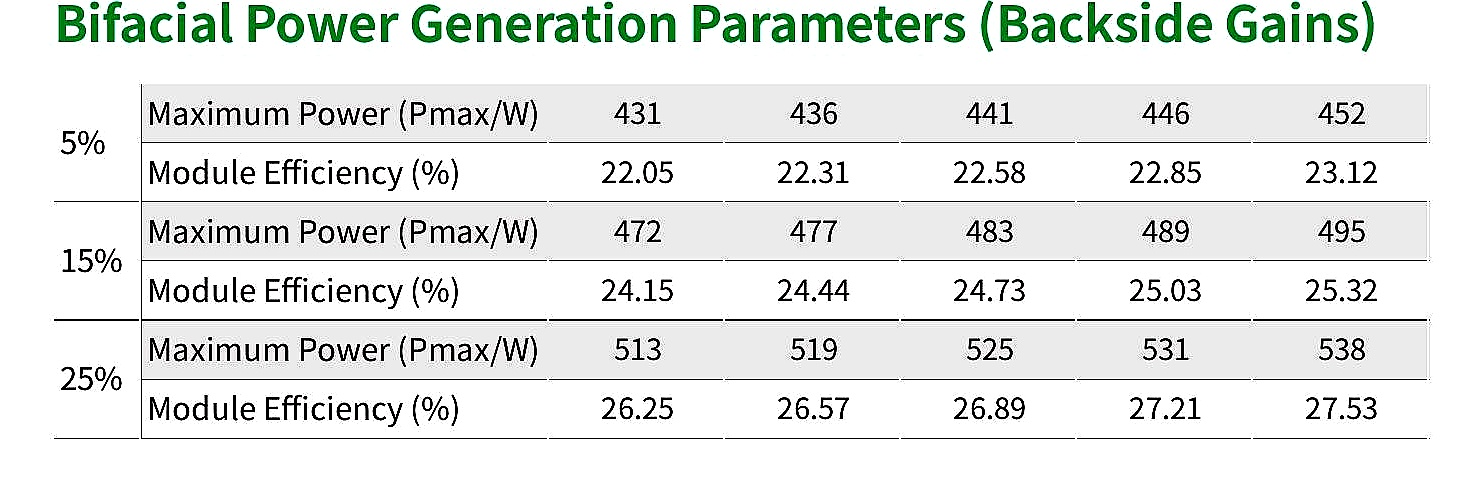table: (37, 71, 1448, 451)
table column: (140, 81, 557, 433), (1252, 84, 1430, 439), (905, 83, 1078, 439), (732, 85, 902, 440), (1082, 83, 1247, 440), (560, 84, 723, 440), (42, 84, 142, 438)
table name: (45, 1, 1418, 59)
table row: (43, 378, 1442, 439), (45, 258, 1434, 319), (45, 199, 1437, 258), (45, 83, 1431, 142), (41, 319, 1439, 376), (46, 143, 1435, 200)
table row header: (140, 84, 557, 436), (38, 81, 144, 438)
table spanning cell: (39, 80, 139, 196), (41, 198, 139, 316), (43, 321, 139, 436)
